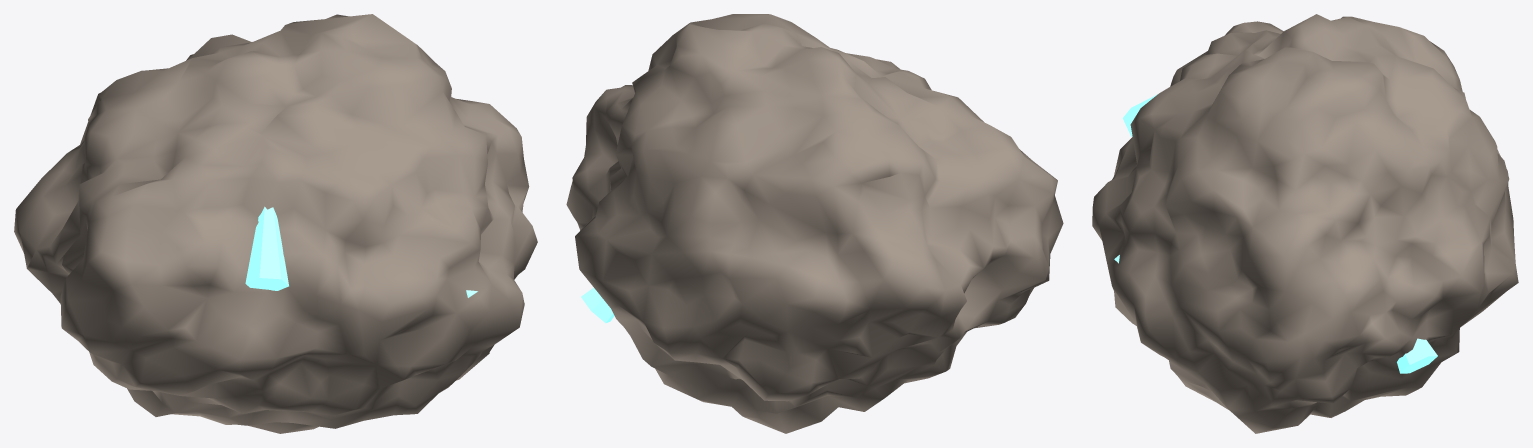
File: asteroid1.fbx
3 renders of one model, left to right at view 1: azimuth 30°, elevation 25°; view 2: azimuth 150°, elevation 25°; view 3: azimuth 270°, elevation 25°, orthographic. The views are drawn at different scales.
Visible parts, largest first — view 1: Icosphere, cr.001; view 2: Icosphere, cr.002; view 3: Icosphere, cr.002.
Boxes of the visible parts, bbox=[...] form: Icosphere: bbox=[14, 14, 537, 433]; cr.001: bbox=[245, 206, 288, 290]; Icosphere: bbox=[566, 14, 1063, 433]; cr.002: bbox=[581, 287, 614, 323]; Icosphere: bbox=[1092, 14, 1518, 433]; cr.002: bbox=[1397, 338, 1437, 373].
Size of the model in its own units: 297 by 228 by 243.
